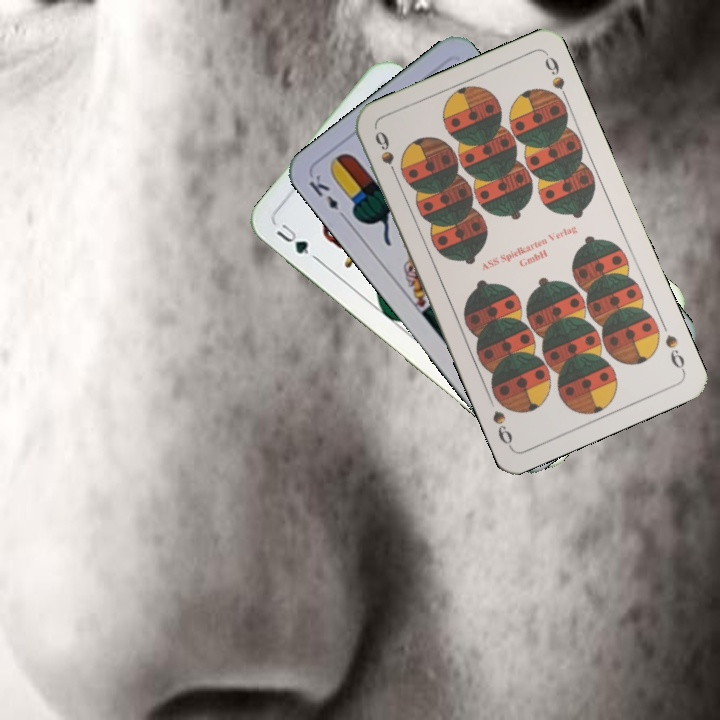EK: (305, 170, 350, 223)
GU: (272, 217, 312, 257)
S9: (371, 126, 401, 183), (661, 330, 688, 375)
